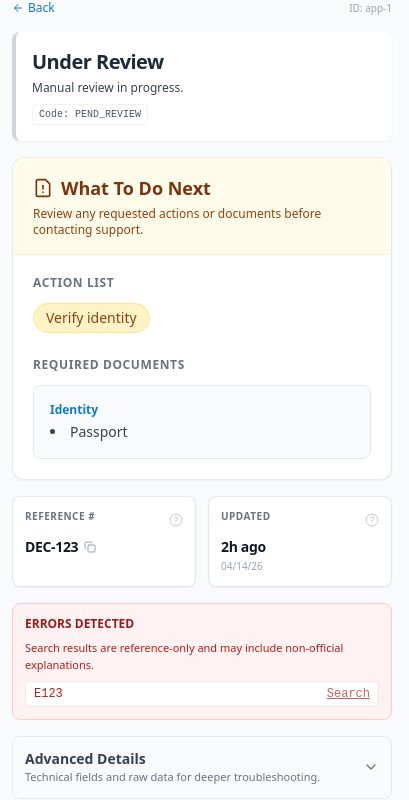
Test: Dashboard › keeps advanced details collapsed until requested
Expected: the heading "Advanced Details" is shown, x1=25 y1=749 x2=146 y2=768
Expected: the text "Raw JSON Data" is not shown
Click the button "Advanced Details" at coordinates (202, 767), box x1=13 y1=737 x2=391 y2=798
(page scrolled)
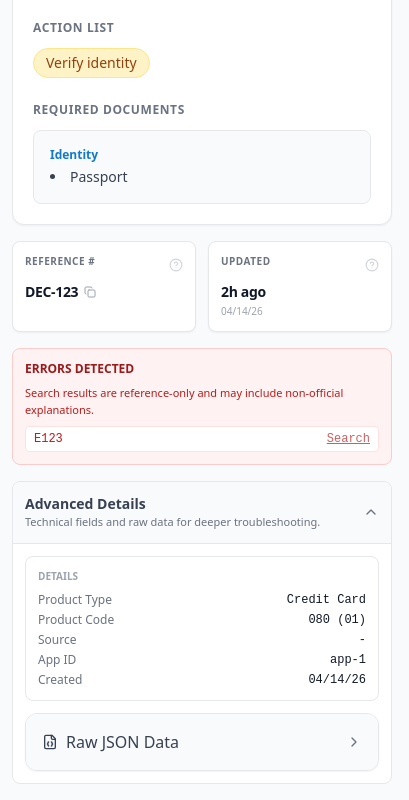
Expected: the text "Raw JSON Data" is shown, x1=42 y1=730 x2=179 y2=754
Expected: the text "Product Code" is shown, x1=38 y1=612 x2=114 y2=628
